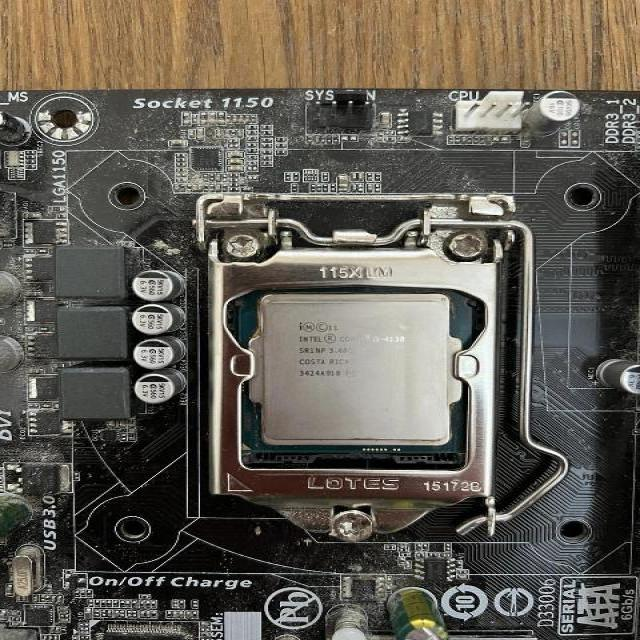CPU: (233, 284, 476, 455)
